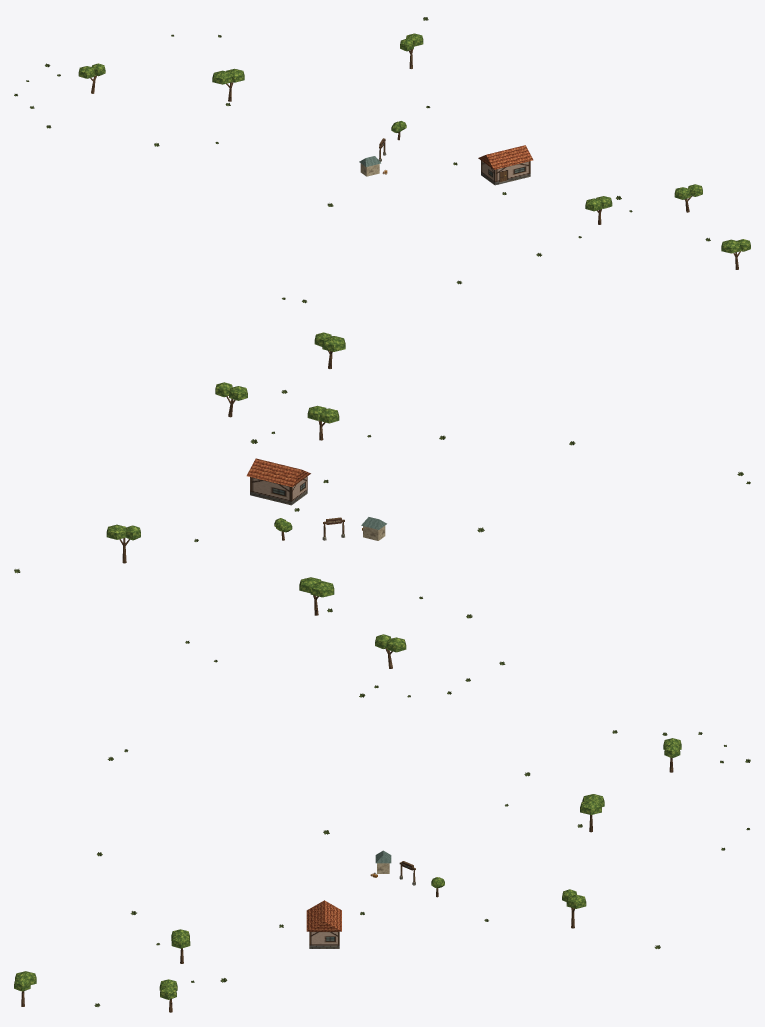
Rendered from FieldCell_2_0.fbx.
The picture shows the model from 3 angles, top to bottom: view 1: azimuth 30°, elevation 25°; view 2: azimuth 150°, elevation 25°; view 3: azimuth 270°, elevation 25°; orthographic projection. The views are drawn at different scales.
Visible parts, largest first — view 1: FieldCell_2_0; view 2: FieldCell_2_0; view 3: FieldCell_2_0.
Boxes of the visible parts, <box> form: FieldCell_2_0: <box>78,33,750,269</box>; FieldCell_2_0: <box>106,332,406,668</box>; FieldCell_2_0: <box>14,738,681,1012</box>.
Bounding box in the file's own units: 11662 × 1771 × 15024.
